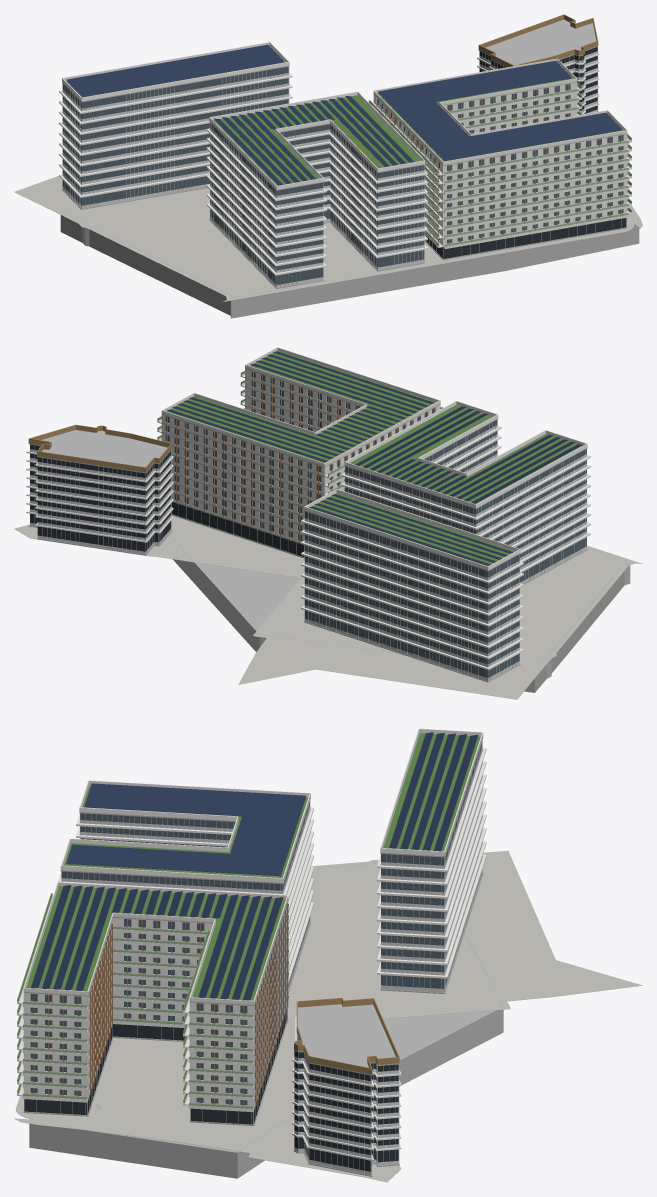
The model's file is model_web.glb.
3 renders of one model, top to bottom at view 1: azimuth 30°, elevation 25°; view 2: azimuth 150°, elevation 25°; view 3: azimuth 270°, elevation 25°, orthographic. The views are drawn at different scales.
Parts seen in each view (by area): view 1: scheme; view 2: scheme; view 3: scheme.
Boxes of the visible parts, x1=… form: scheme: x1=14, y1=14, x2=642, y2=318; scheme: x1=14, y1=347, x2=642, y2=699; scheme: x1=14, y1=728, x2=642, y2=1182.
Bounding box in the file's own units: 192 × 45.4 × 154.
